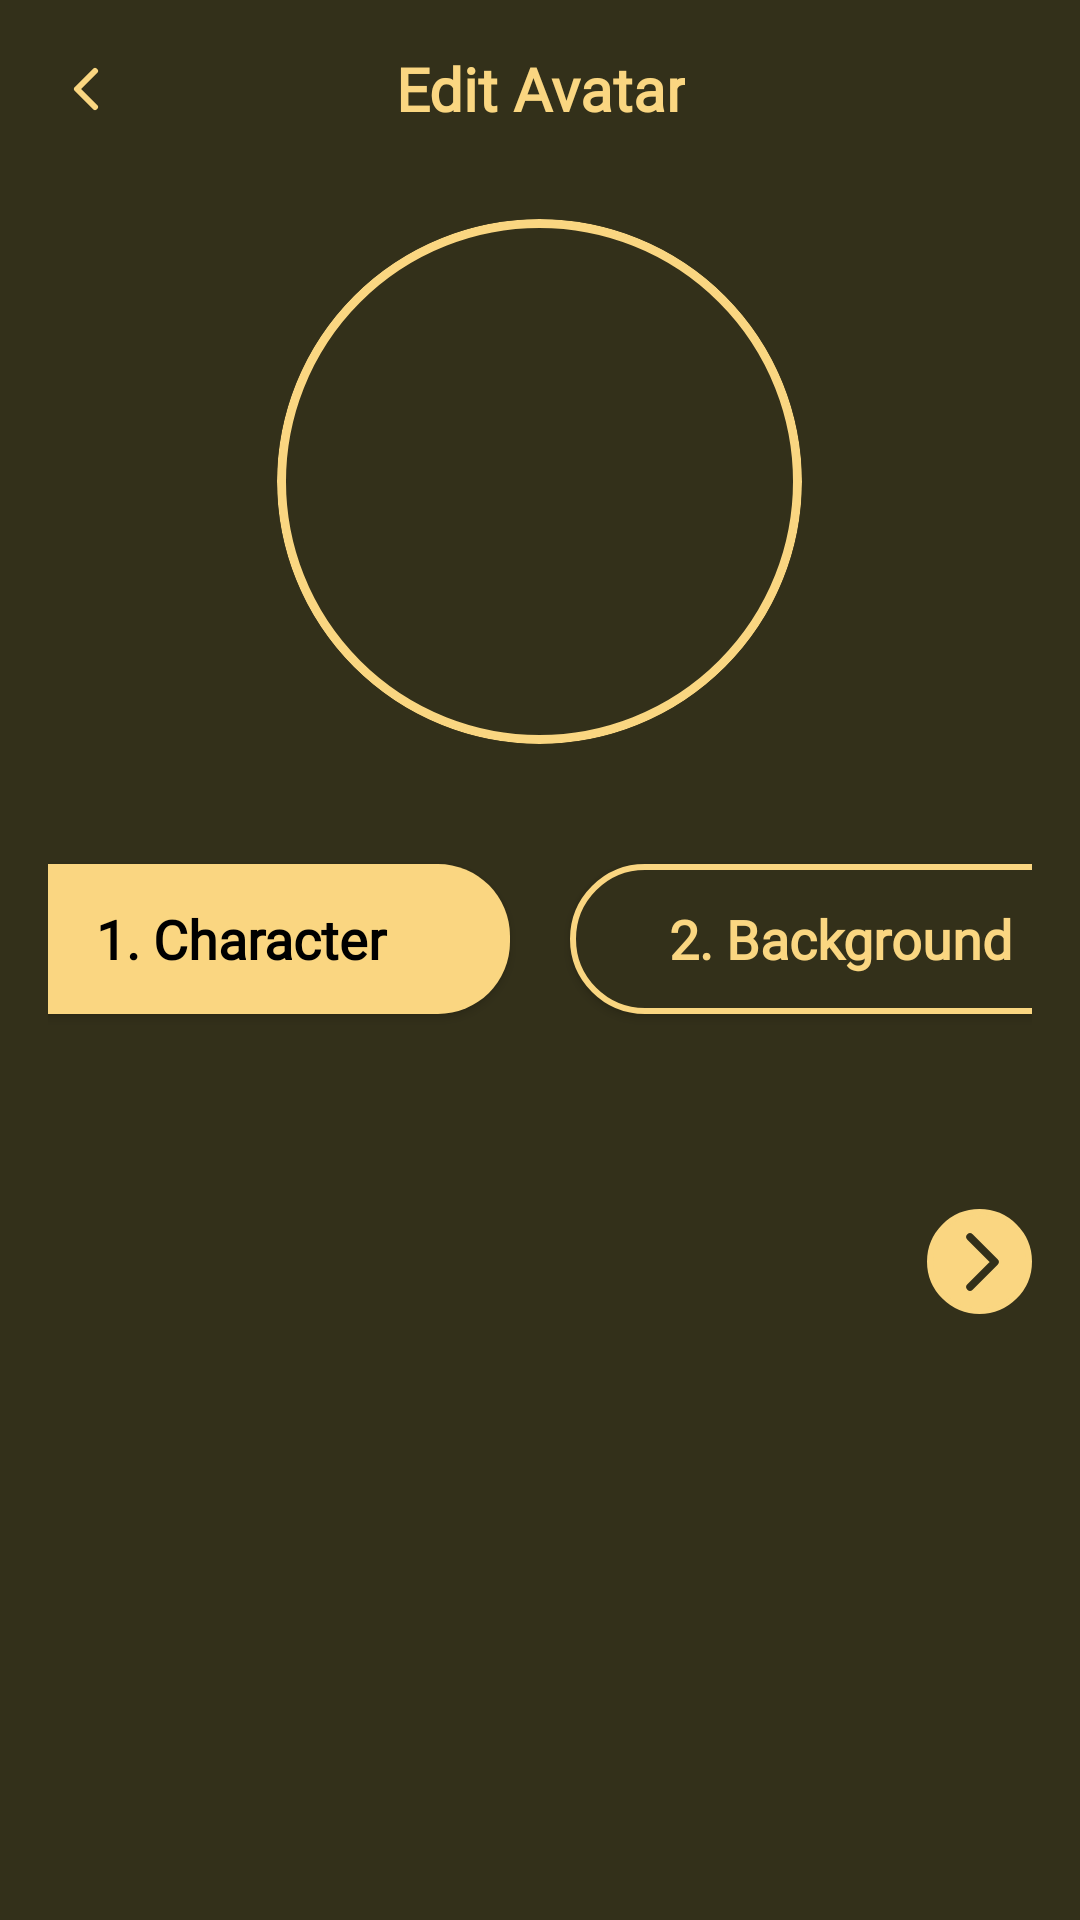

Icons on this 1080×1920 Android screen, each with its box as (x1, y1, x2, y2):
arrow left: (74, 68, 98, 110)
Next: (927, 1209, 1032, 1314)
